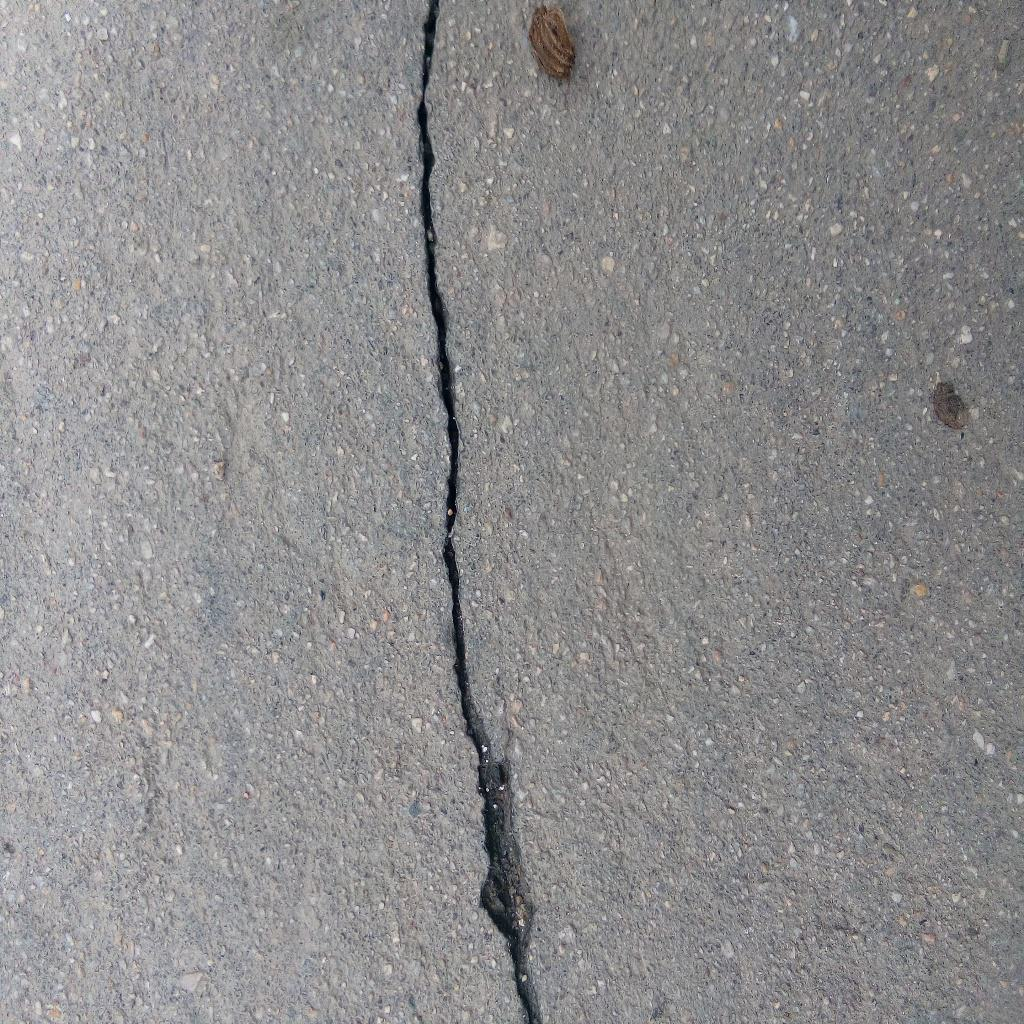Crack: (416, 1, 545, 1024)
